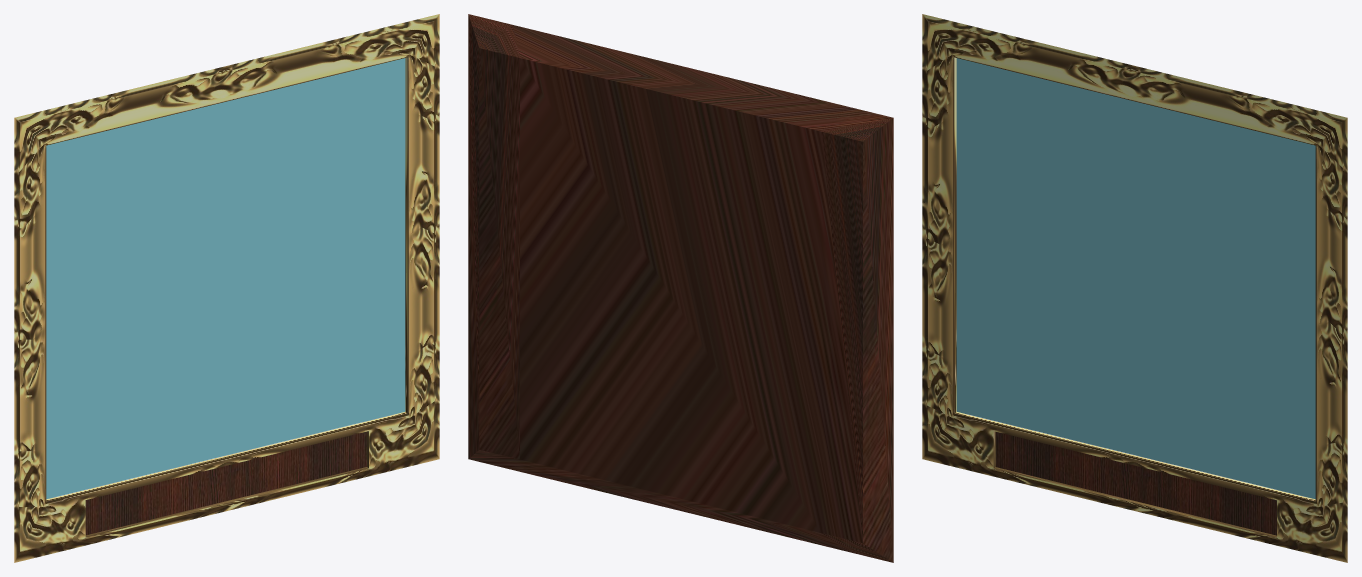
The model's file is Painting.fbx.
3 renders of one model, left to right at view 1: azimuth 30°, elevation 25°; view 2: azimuth 150°, elevation 25°; view 3: azimuth 330°, elevation 25°, orthographic.
Parts seen in each view (by area): view 1: Painting; view 2: Painting; view 3: Painting.
Boxes of the visible parts, bbox=[...] form: Painting: bbox=[14, 14, 439, 562]; Painting: bbox=[468, 14, 893, 562]; Painting: bbox=[922, 14, 1347, 562].
Size of the model in its own units: 500 by 500 by 20.
